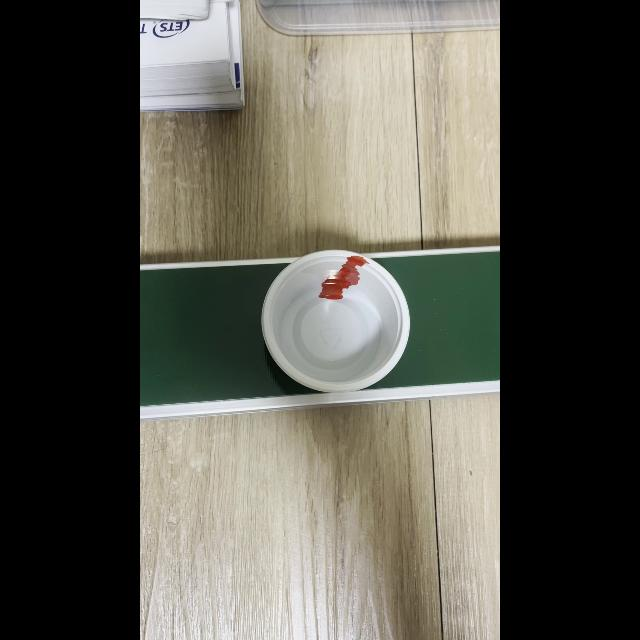dirty: (268, 264, 400, 376)
